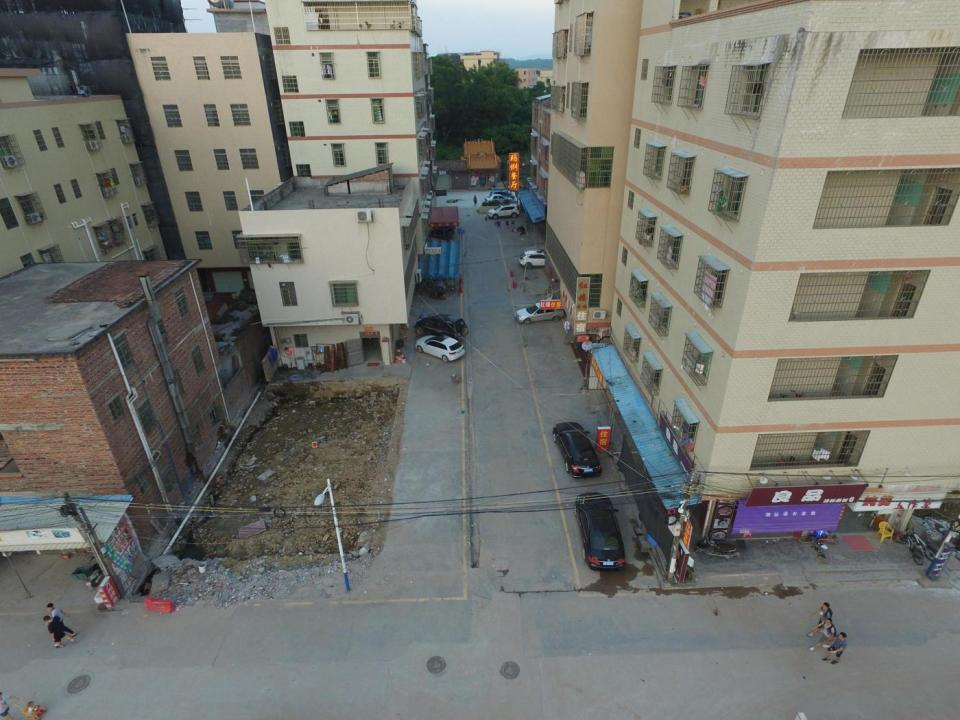car: (575, 492, 626, 572), (551, 422, 602, 478), (416, 333, 466, 363), (414, 313, 468, 340), (516, 302, 565, 322), (521, 250, 560, 268), (486, 205, 522, 219), (485, 194, 515, 204), (491, 190, 515, 201)
